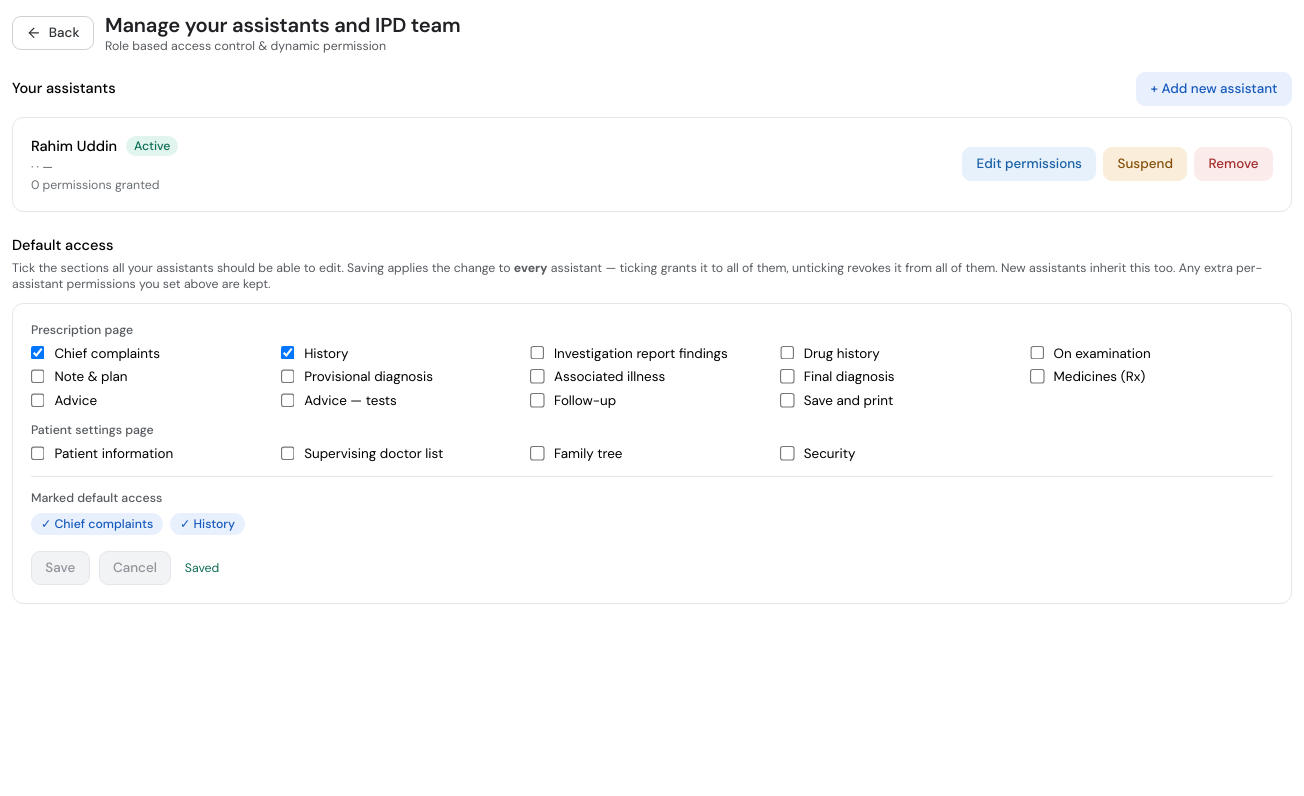
Test case: ManageAssistantsView per-assistant permission editor › does not pre-tick the defaults for an assistant with no grants
Click the button "Edit permissions" at [1029, 164], box [962,148,1096,181]
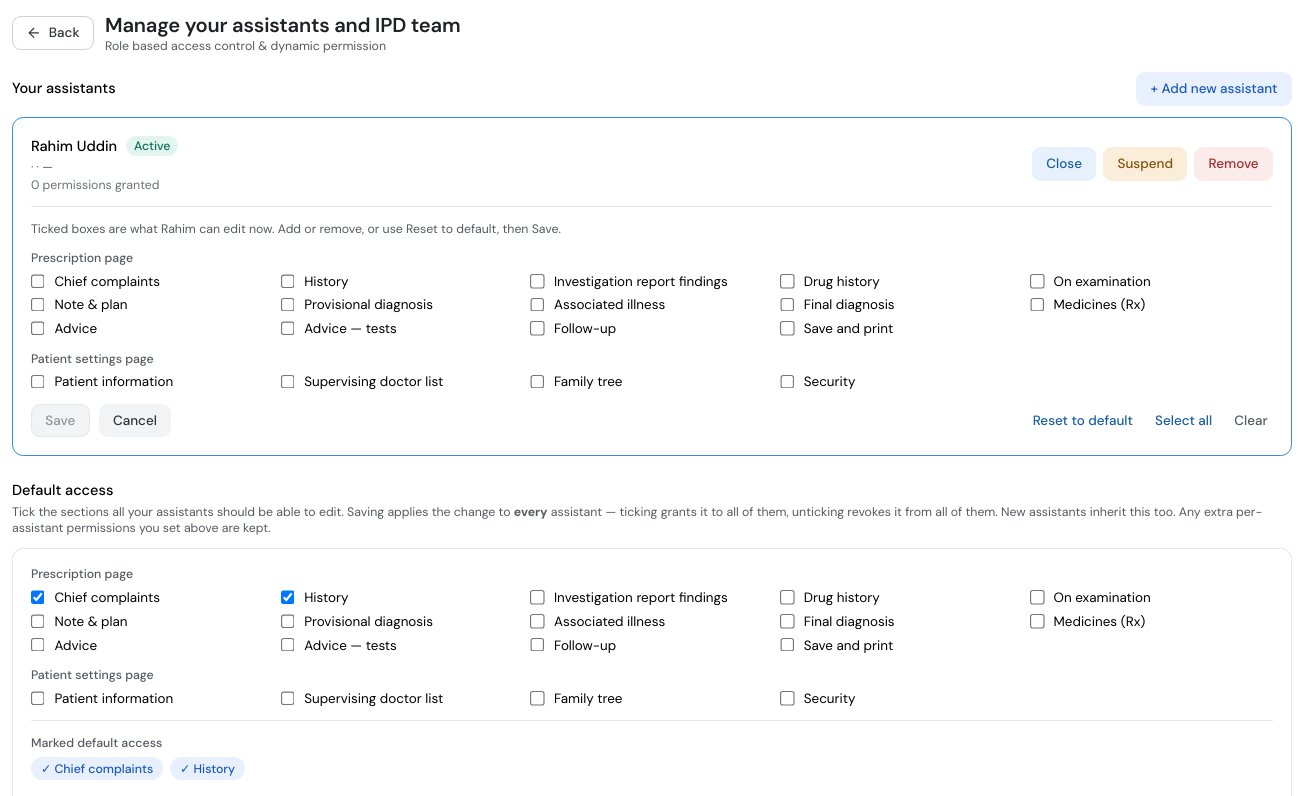
Expected: the checkbox labelled "Chief complaints" below "Ticked boxes are what" is not checked, [31,274,45,288]
Expected: the checkbox labelled "History" below "Ticked boxes are what" is not checked, [281,274,295,288]
